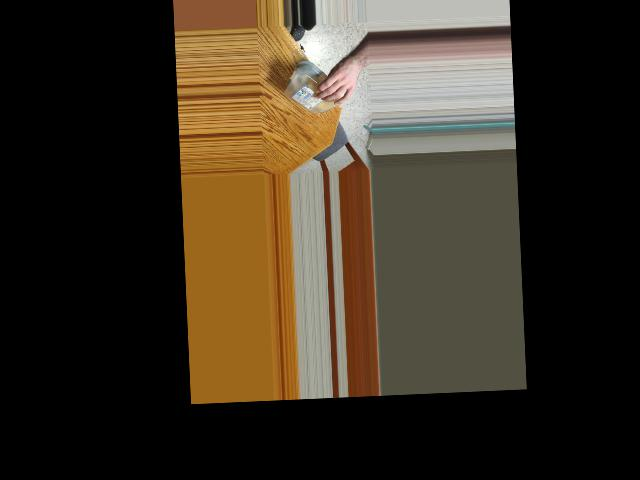cheese: (283, 60, 350, 115)
